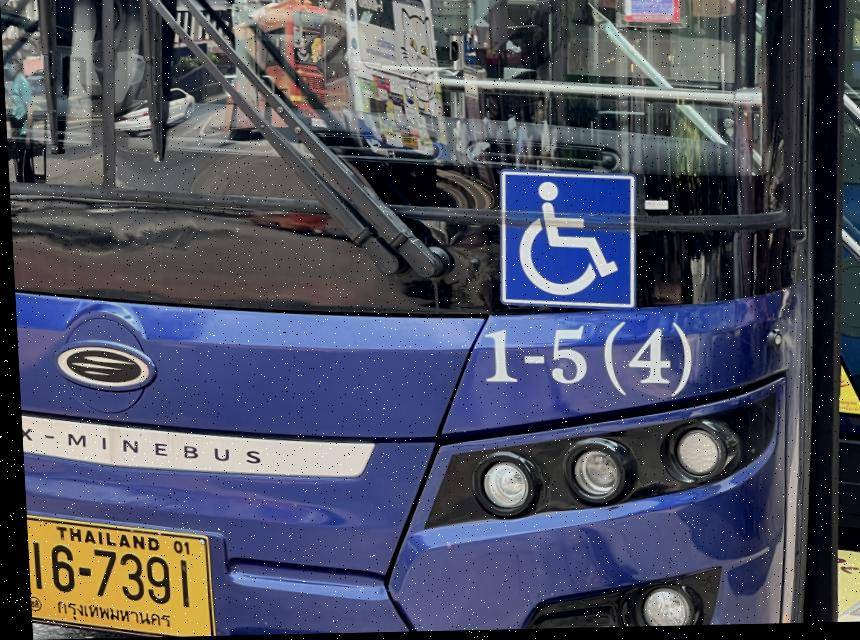Bus Side Number: (471, 319, 706, 417)
TSB-Bus: (0, 0, 860, 640)
